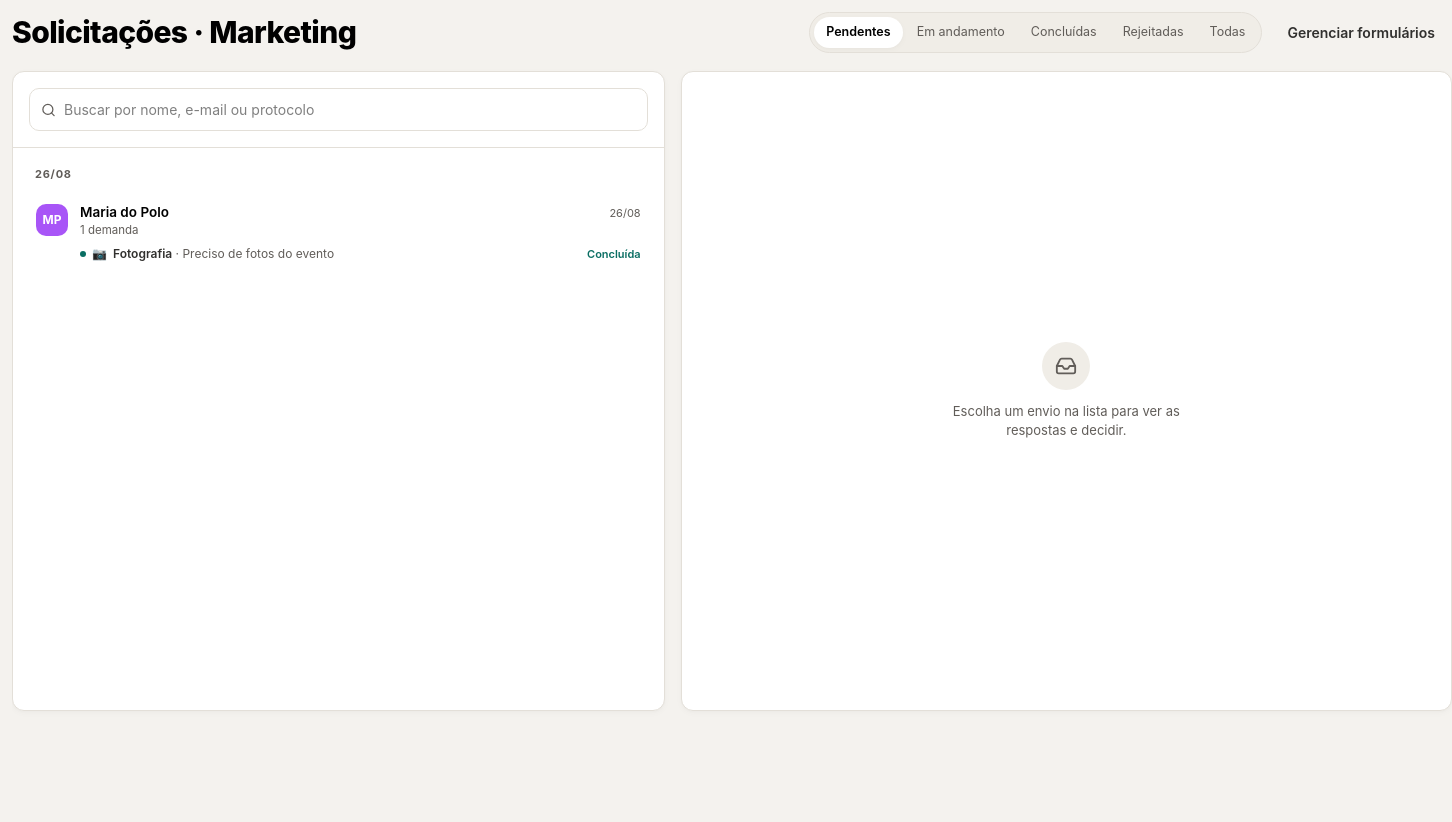
Scenario: o andamento de um pedido ACEITO › ⚠️ o seletor oferece os TRÊS aceitos, e não um botão 'avançar'
This screenshot has width=1452, height=822.
Click the text "Maria do Polo". click: click(124, 212)
box: [80, 204, 169, 220]
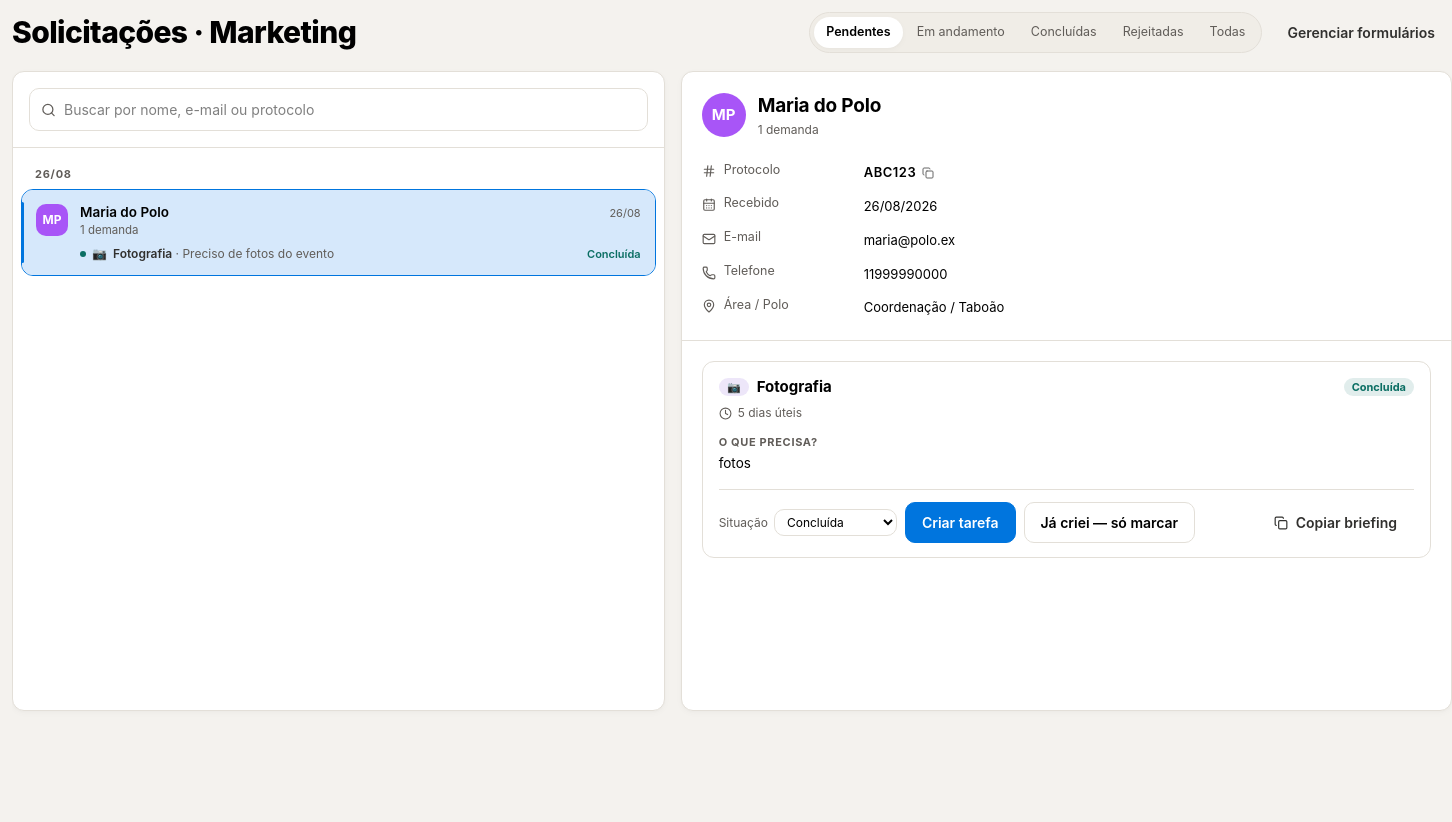
Check: the dropdown named "Situação de Fotografia" shows "Concluída", box [774, 509, 897, 536]
